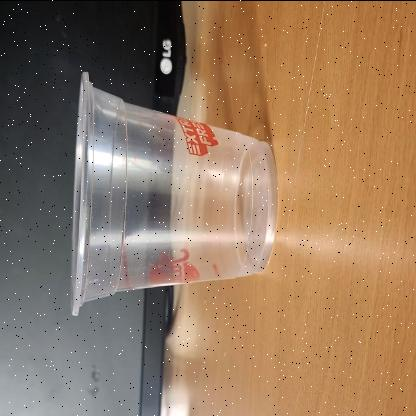Others: (67, 67, 280, 317)
